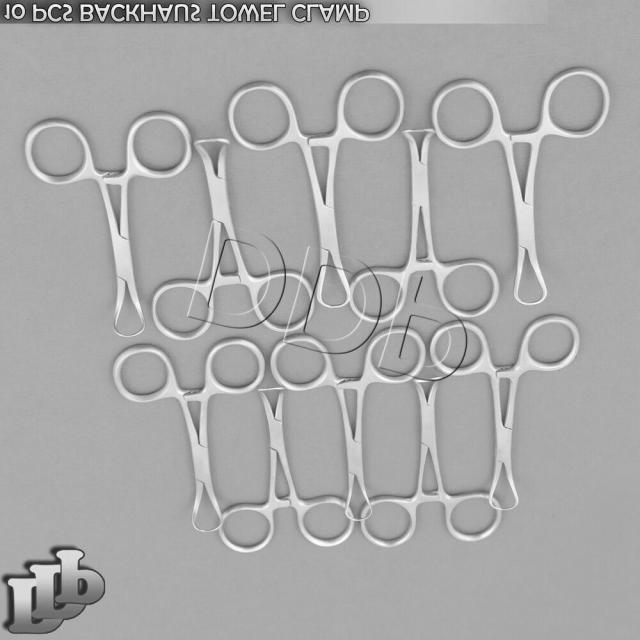Towel_clip: (225, 67, 408, 310), (428, 66, 613, 306), (22, 110, 198, 338), (149, 136, 318, 342), (110, 332, 270, 536), (268, 325, 430, 523), (347, 126, 504, 326), (428, 312, 582, 512), (358, 375, 504, 550), (218, 383, 358, 554)
